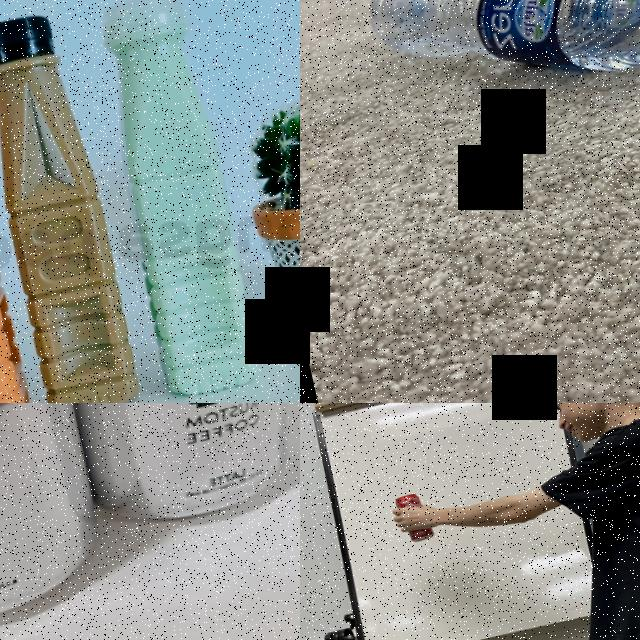bottle: (77, 0, 273, 403), (0, 7, 149, 403), (354, 0, 640, 130)
can: (32, 403, 300, 544), (0, 403, 116, 640), (392, 490, 436, 546)
